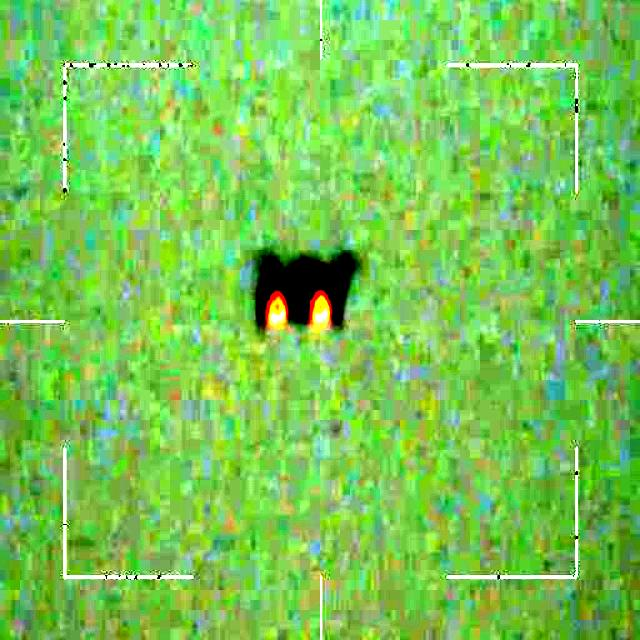bird: (254, 250, 356, 332)
